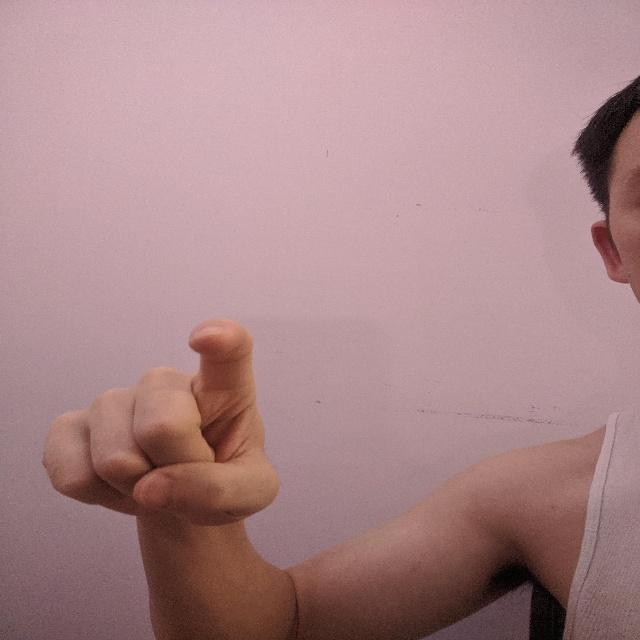Z: (36, 313, 288, 532)
